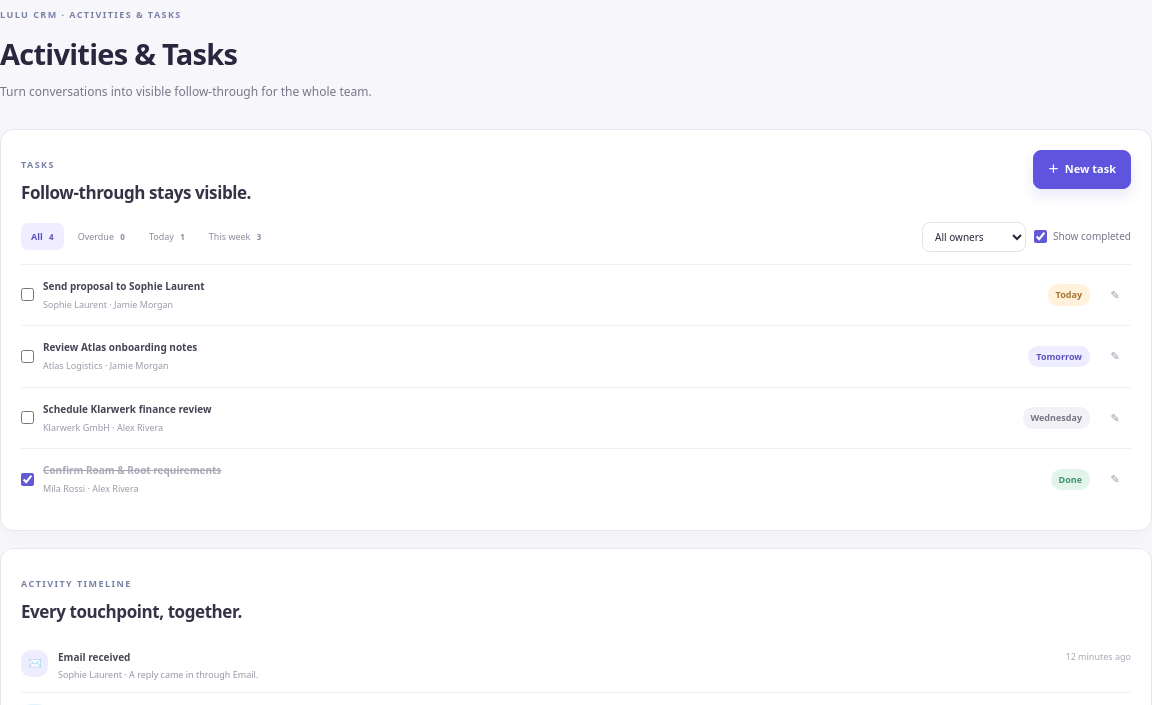
Scenario: Activities & Tasks page › creates a task linked to a contact
This screenshot has width=1152, height=705.
Check: the text "Send proposal to Sophie Laurent" is shown, box x1=43 y1=278 x2=205 y2=292
Check: the text "Email received" is shown, box x1=58 y1=650 x2=130 y2=664
Click the button "＋ New task" at (1082, 169), box x1=1033 y1=150 x2=1131 y2=188
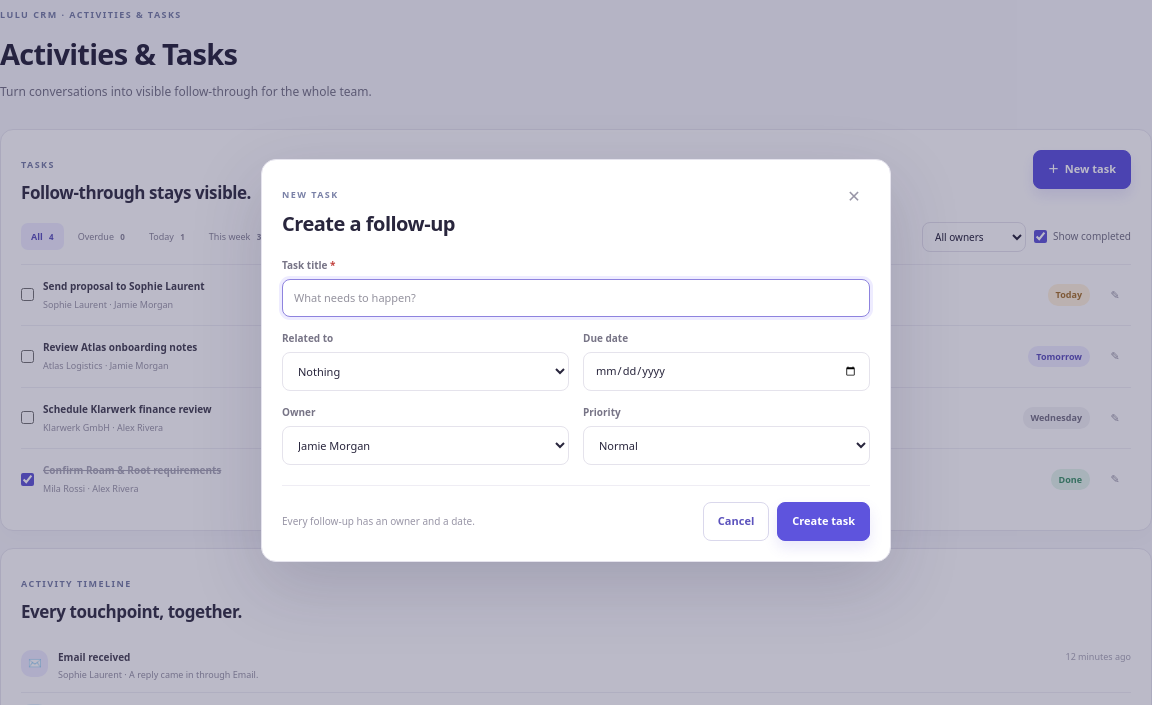
Click the button "Create task" at (824, 521), box x1=777 y1=502 x2=870 y2=540
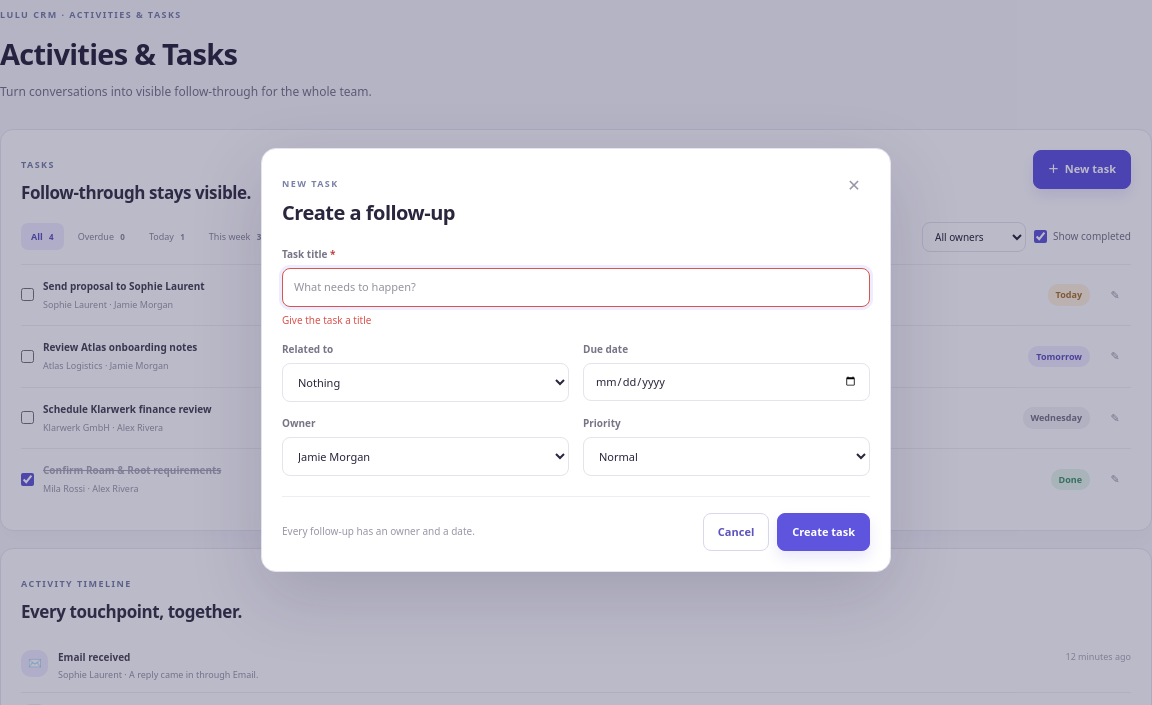
Check: the text "Give the task a title" is shown, box x1=282 y1=312 x2=371 y2=326
Type "Call Elena about the renewal" into the field labelled "Task title *" at (576, 287), box x1=282 y1=268 x2=870 y2=306
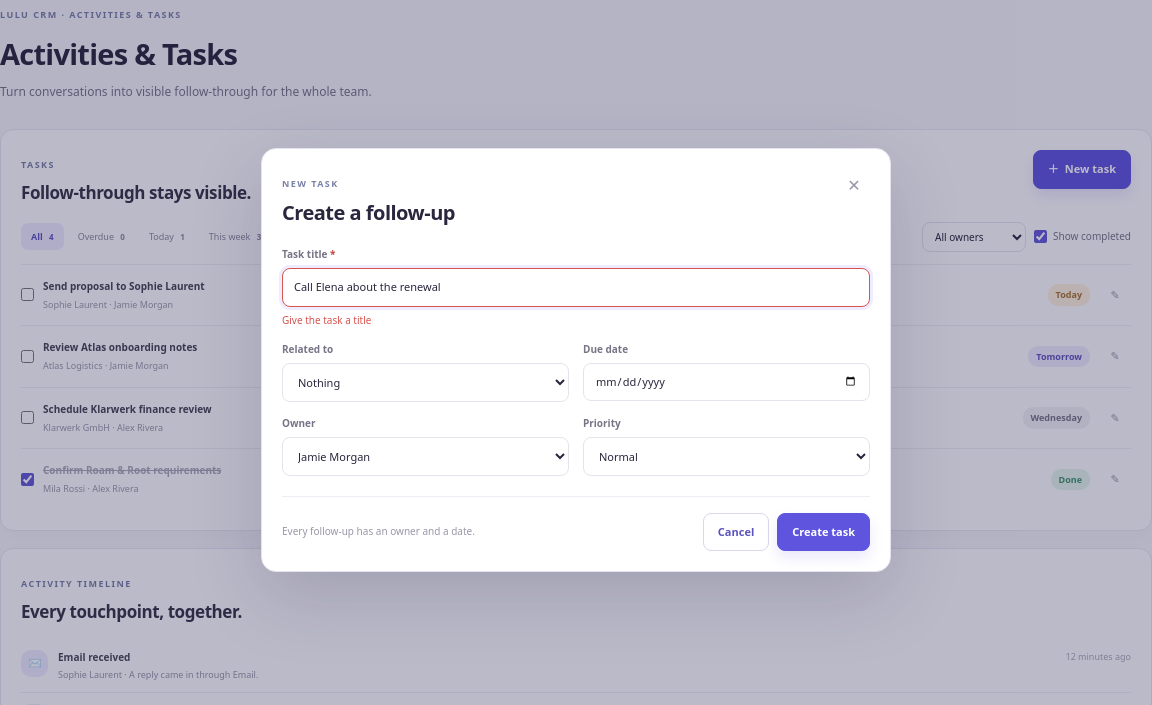
Select "Elena Schmidt · Haus am Fluss" in the dropdown labelled "Related to" at (426, 382), box x1=282 y1=362 x2=569 y2=402
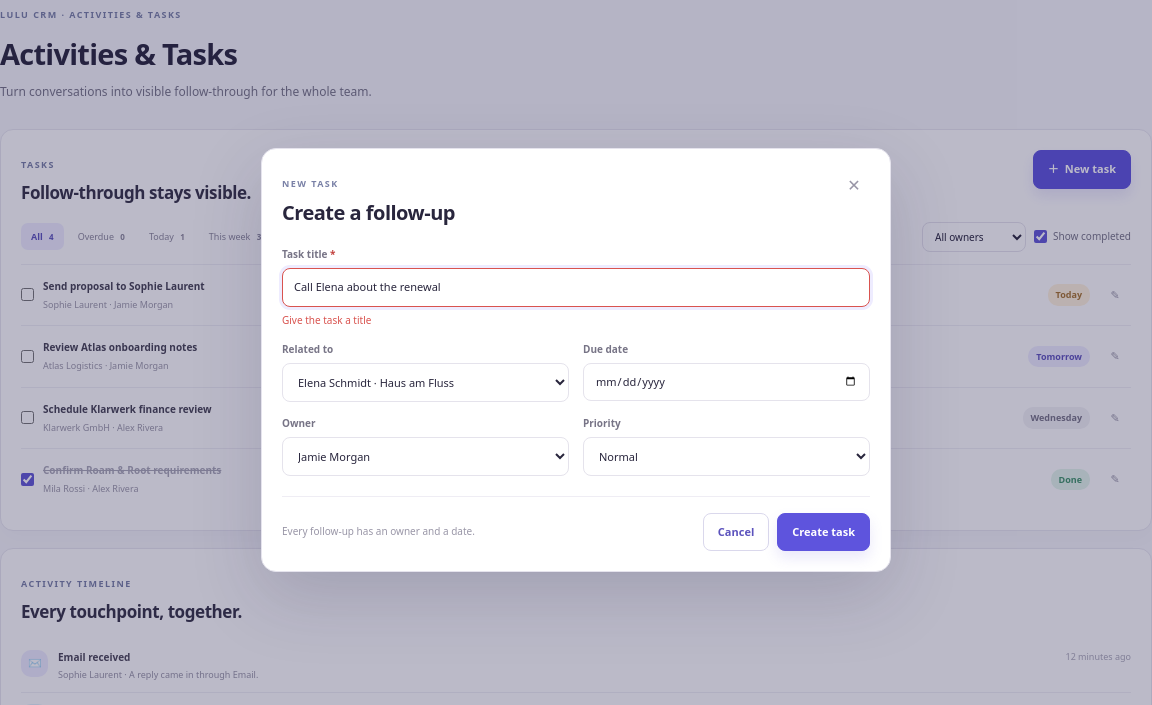
Type "2026-10-17" into the date field labelled "Due date" at (726, 382), box x1=583 y1=362 x2=870 y2=401
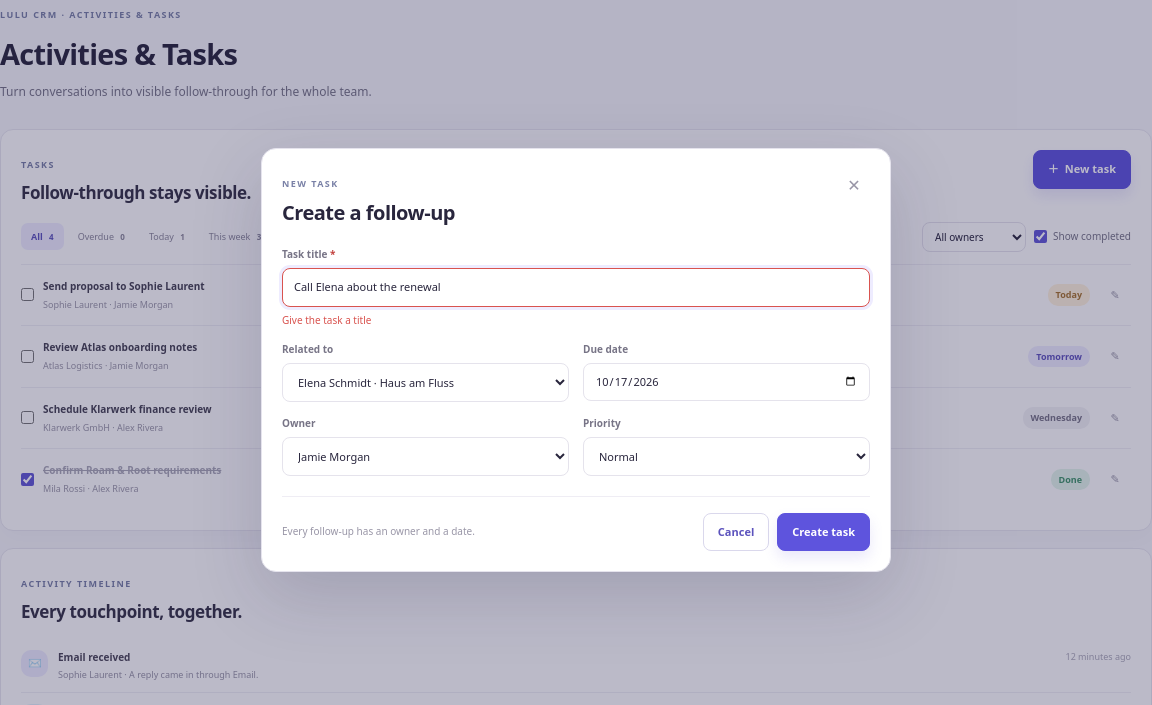
Click the button "Create task" at (824, 532), box x1=777 y1=512 x2=870 y2=551
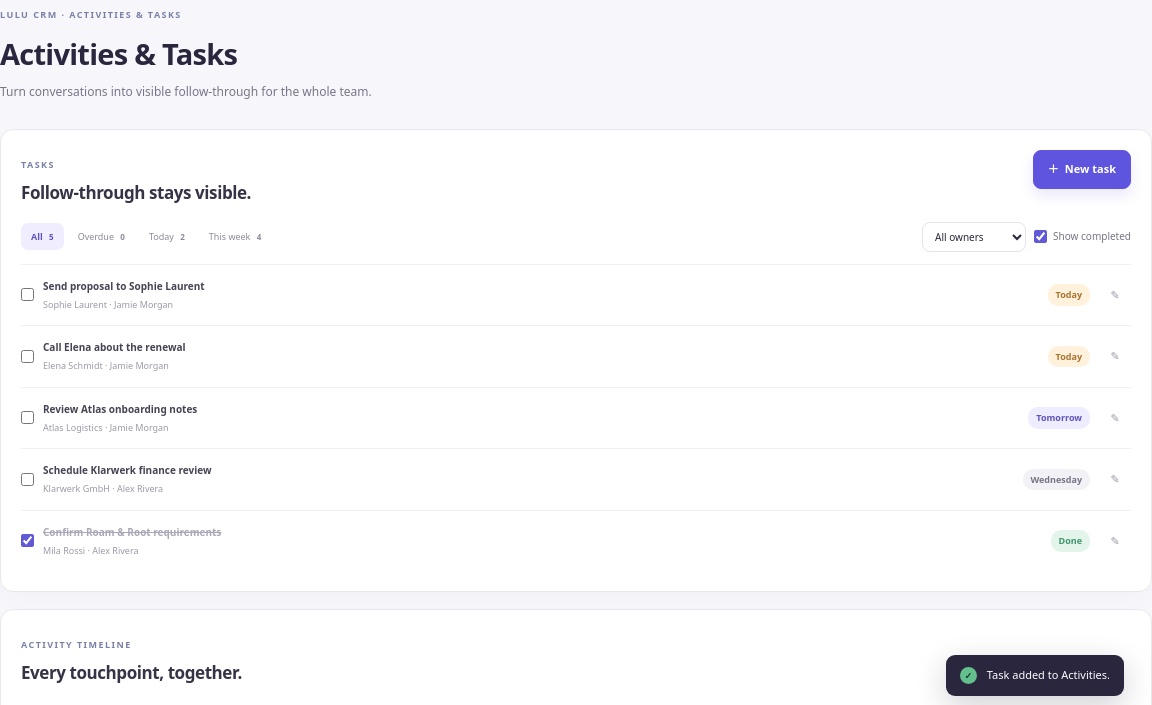
Check: the text "Call Elena about the renewal" is shown, box x1=43 y1=340 x2=186 y2=354
Check: the text "Today" in the row of "Call Elena about the renewal" is shown, box x1=1056 y1=350 x2=1082 y2=362
Check: the text "Elena Schmidt · Jamie Morgan" is shown, box x1=43 y1=359 x2=169 y2=372
